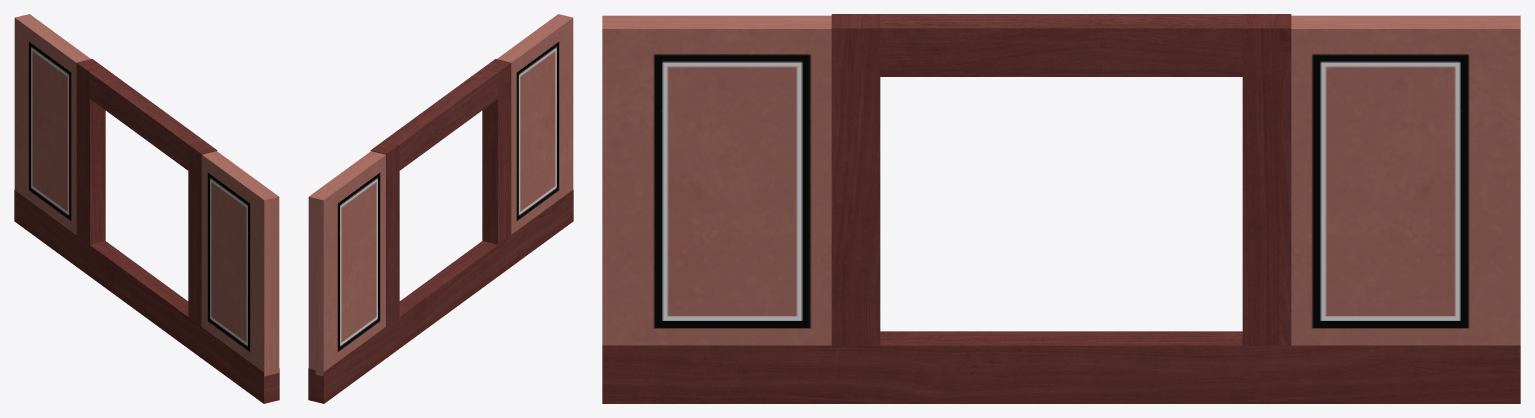
The model's file is SM_Wall01A.fbx.
3 renders of one model, left to right at view 1: azimuth 30°, elevation 25°; view 2: azimuth 150°, elevation 25°; view 3: azimuth 270°, elevation 25°, orthographic. The views are drawn at different scales.
Visible parts, largest first — view 1: SM_Wall01A; view 2: SM_Wall01A; view 3: SM_Wall01A.
Boxes of the visible parts, left/top/right/bottom form: SM_Wall01A: left=14, top=14, right=279, bottom=403; SM_Wall01A: left=308, top=14, right=573, bottom=403; SM_Wall01A: left=602, top=14, right=1520, bottom=403.
Size of the model in its own units: 8.99 by 245 by 111.
Materials: 2 (2 with a texture image).
